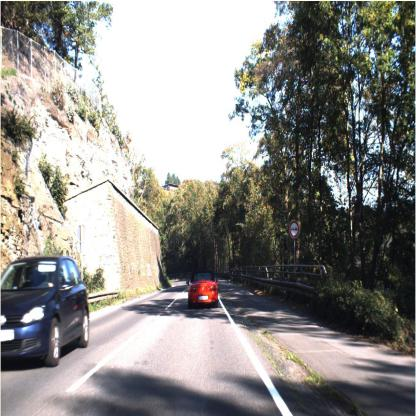prohibitory: (287, 219, 302, 240)
